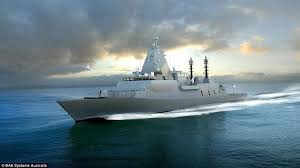tau_muctieu: (52, 53, 273, 116)
